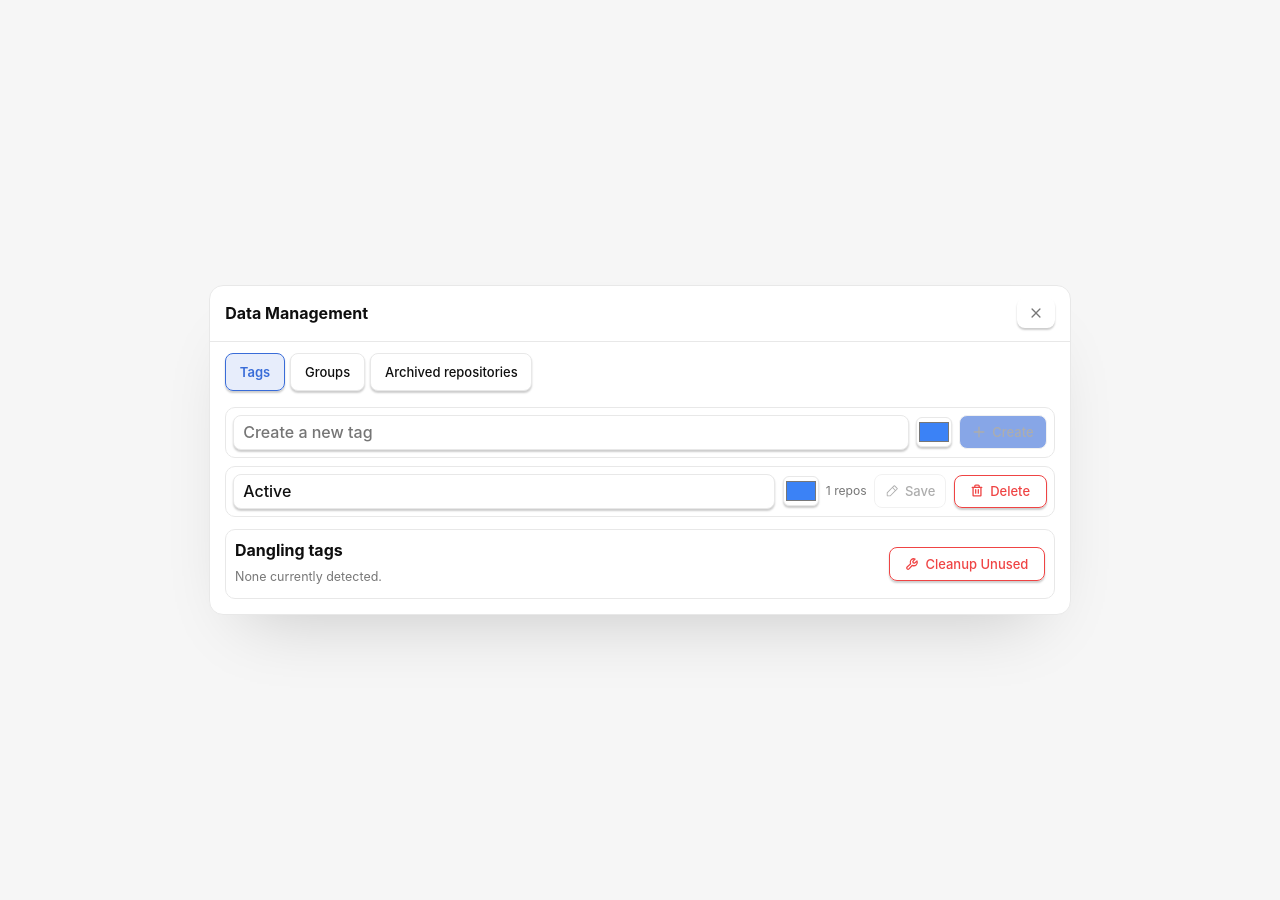
it: SettingsManagementModal › clears a pending tag confirmation when the modal is reopened
Click the button "Delete".
click(1000, 491)  # box [954, 475, 1047, 508]
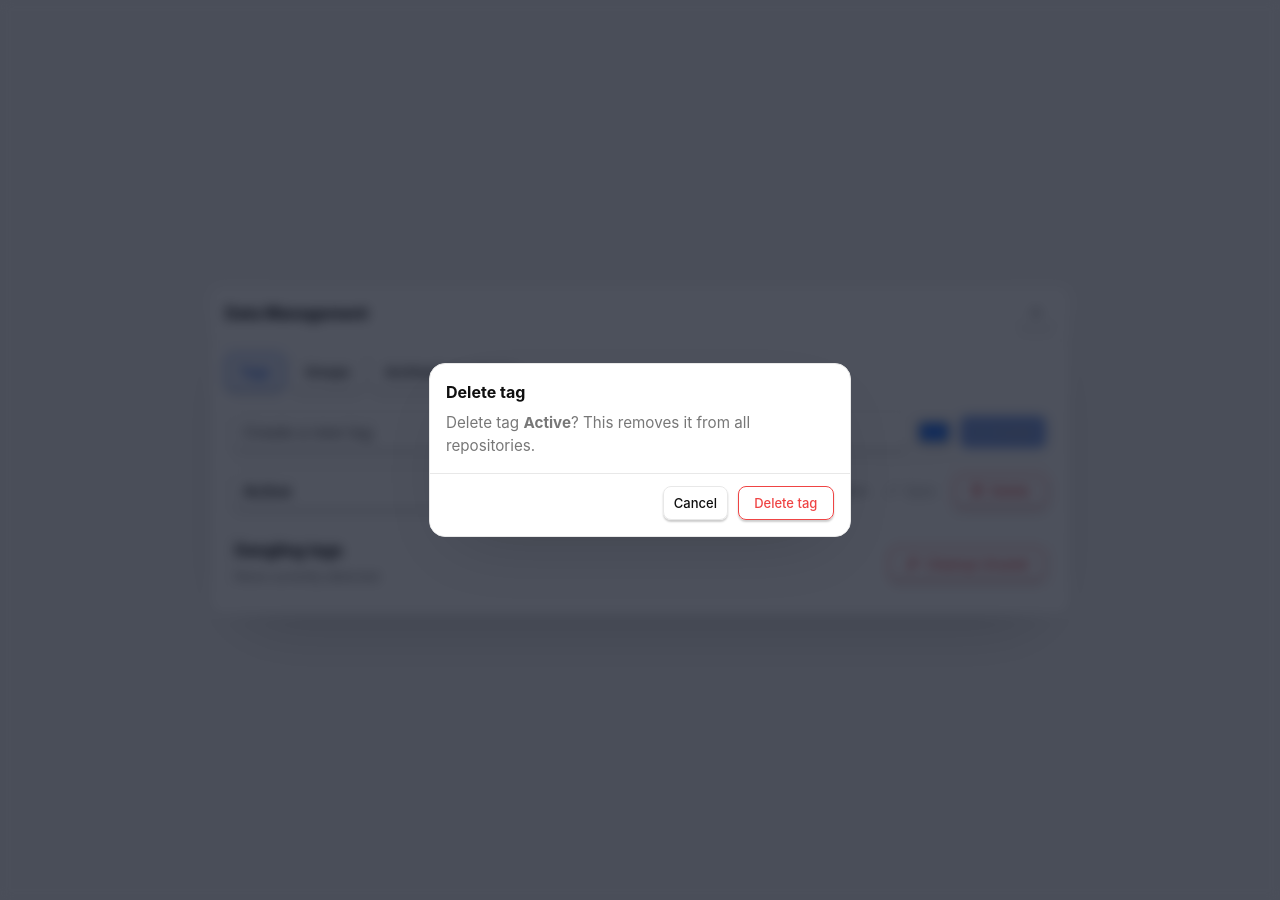
Check: the dialog "Delete tag" is shown, box [429, 363, 851, 537]
